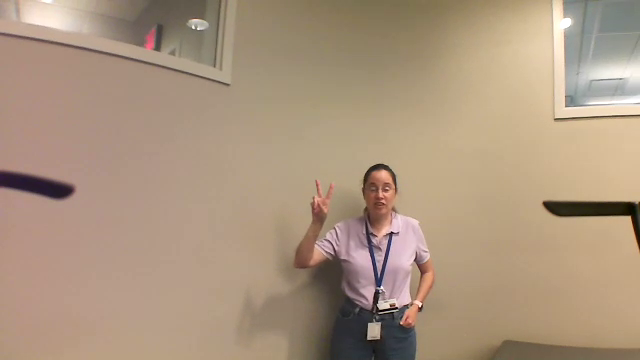peace: (308, 176, 340, 227)
